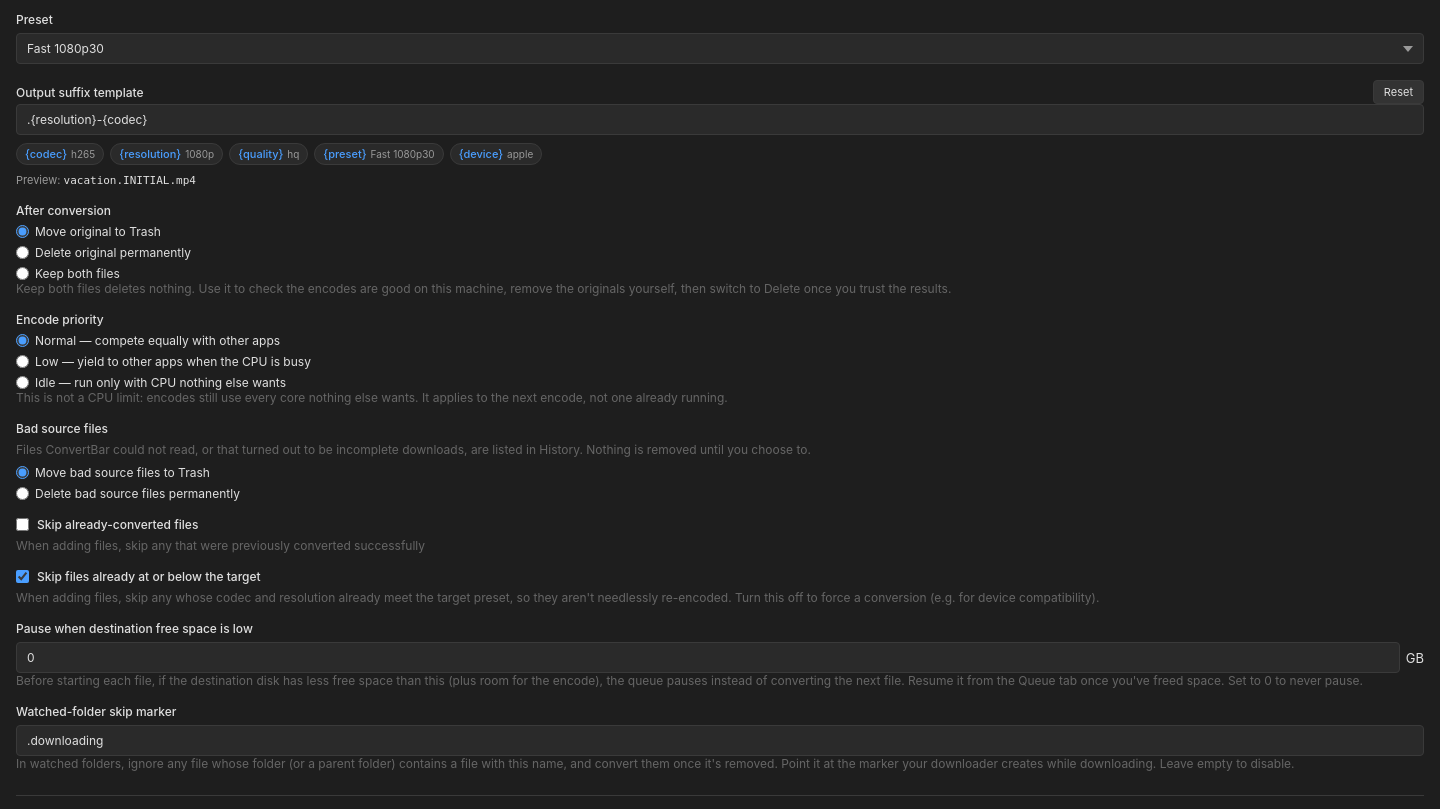
Test: SettingsPage › ignores a stale suffix-preview resolve that lands after a newer edit
expect the text "vacation.INITIAL.mp4" is shown: met, box left=64, top=174, right=196, bottom=187
# Edit to A, let its debounced resolve fire (left pending).
Type ".AAA" into the field with placeholder ".{resolution}-{codec}" below "Output suffix template".
click(720, 120); type(".AAA")  # box left=16, top=104, right=1424, bottom=135
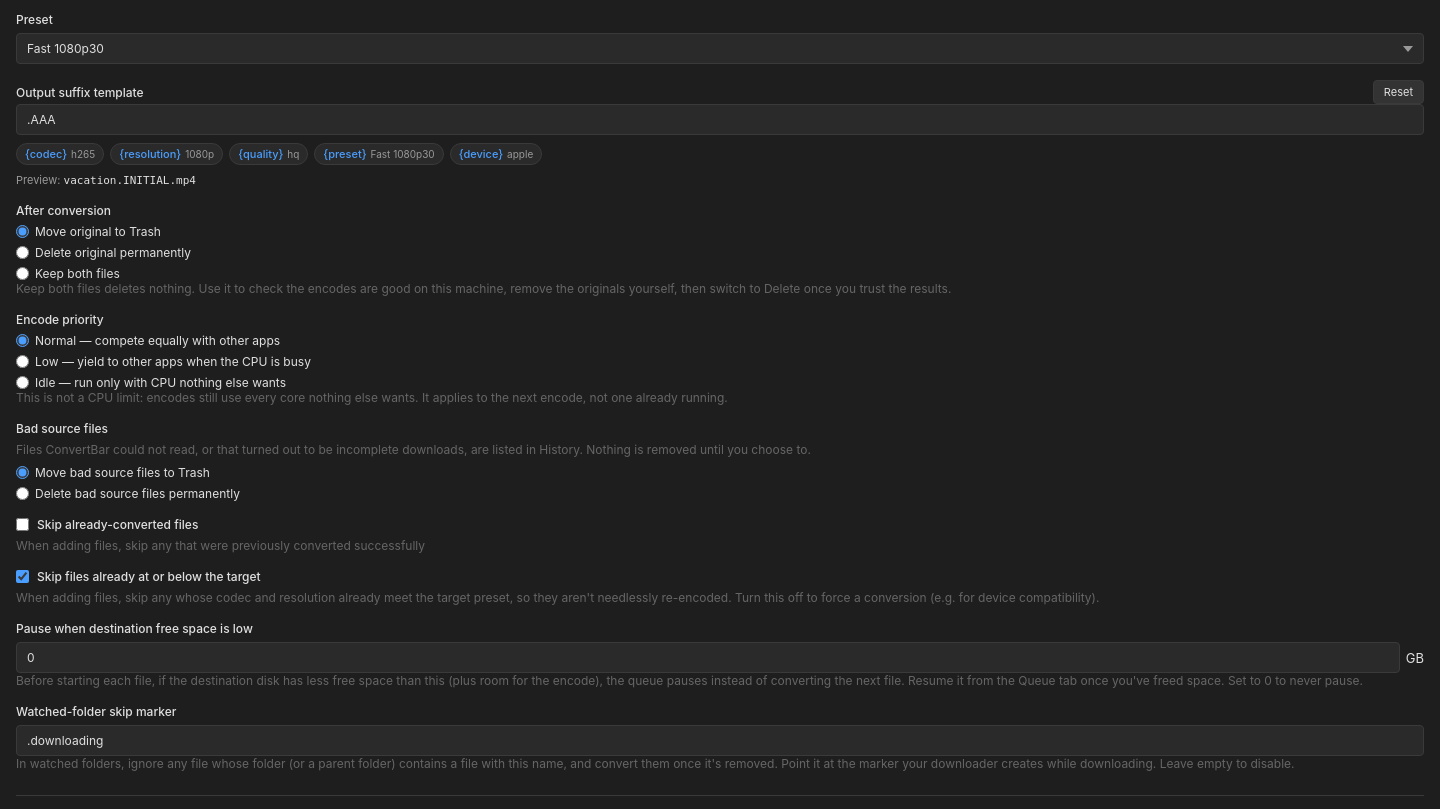
# Edit to B, let its debounced resolve fire (left pending).
Replace the text in the field with placeholder ".{resolution}-{codec}" below "Output suffix template" with ".BBB" at (720, 120), box left=16, top=104, right=1424, bottom=135
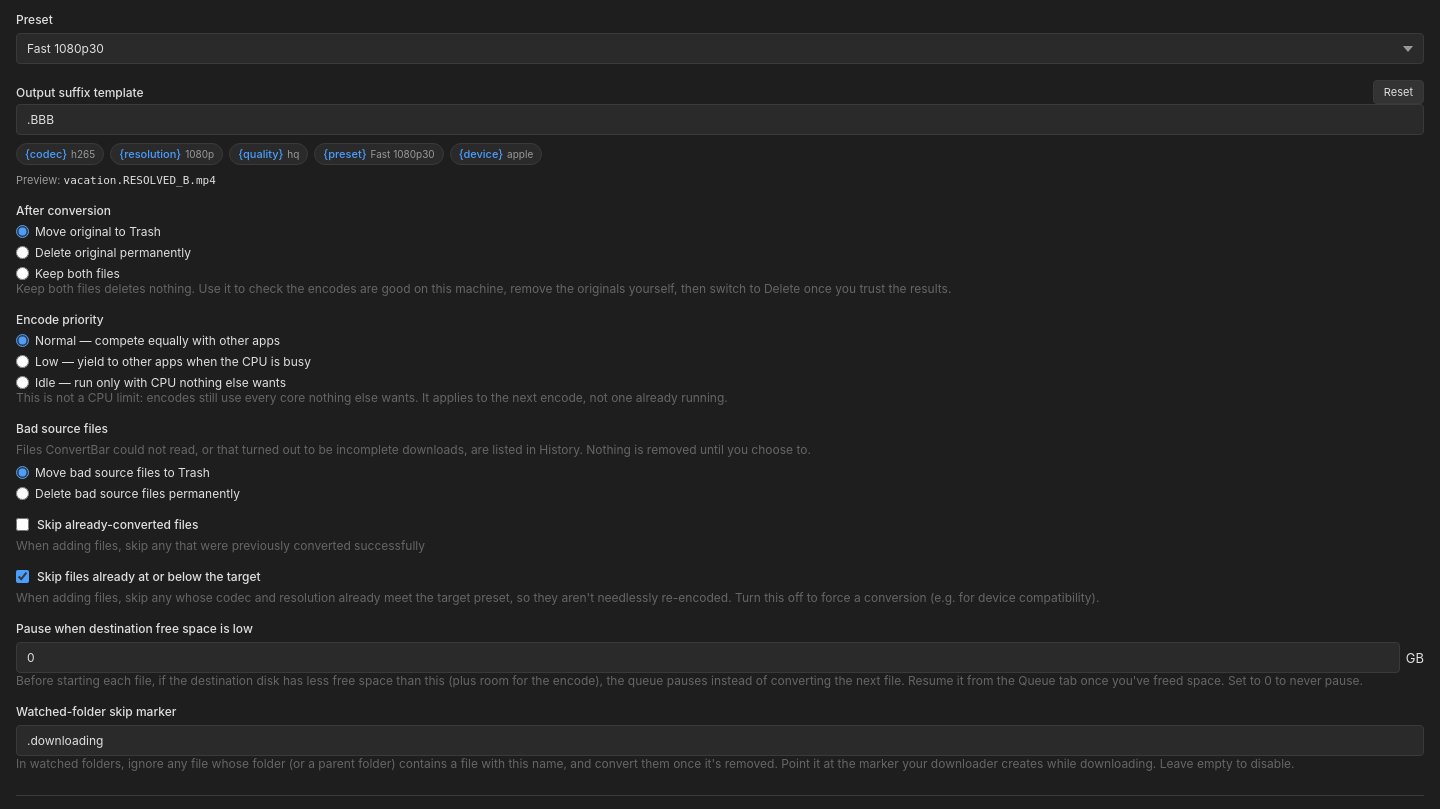
expect the text "vacation.RESOLVED_B.mp4" is shown: met, box left=64, top=174, right=216, bottom=187
